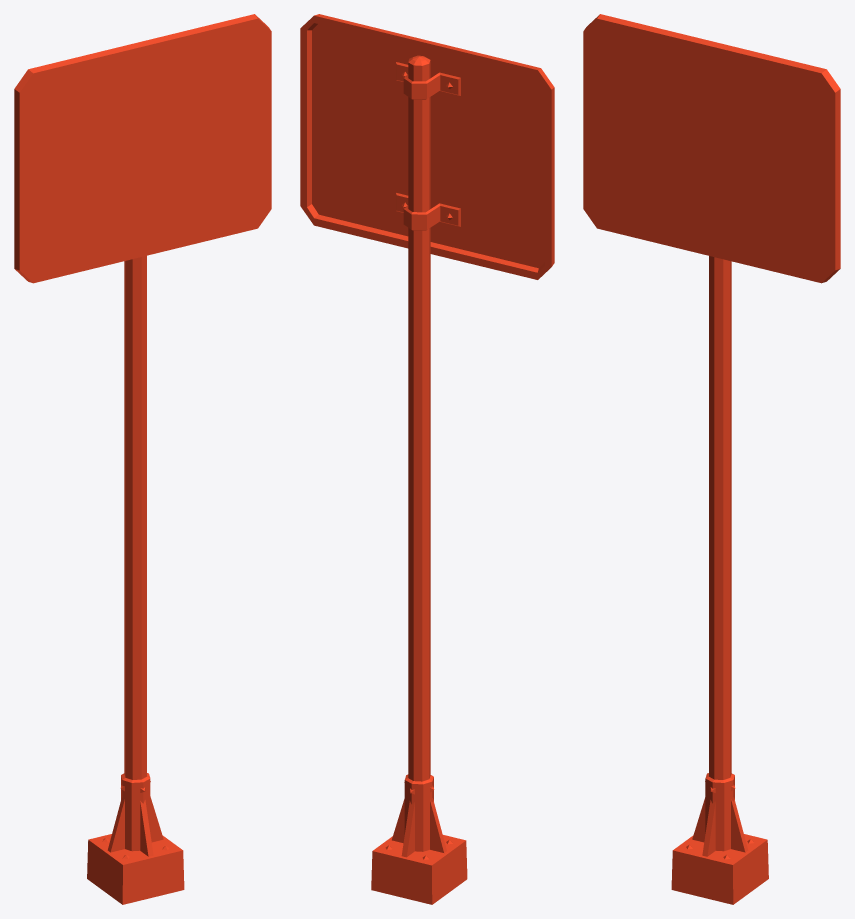
File: SM_Sign_Turn_Diagonal_B_City.fbx
The picture shows the model from 3 angles, left to right: view 1: azimuth 30°, elevation 25°; view 2: azimuth 150°, elevation 25°; view 3: azimuth 330°, elevation 25°; orthographic projection.
Parts seen in each view (by area): view 1: SM_Sign_Turn_Diagonal_B_City; view 2: SM_Sign_Turn_Diagonal_B_City; view 3: SM_Sign_Turn_Diagonal_B_City.
Boxes of the visible parts, x1=… form: SM_Sign_Turn_Diagonal_B_City: x1=14, y1=14, x2=271, y2=904; SM_Sign_Turn_Diagonal_B_City: x1=300, y1=14, x2=554, y2=904; SM_Sign_Turn_Diagonal_B_City: x1=583, y1=14, x2=840, y2=904.
Bounding box in the file's own units: 0.7567 × 2.41 × 0.1839.
